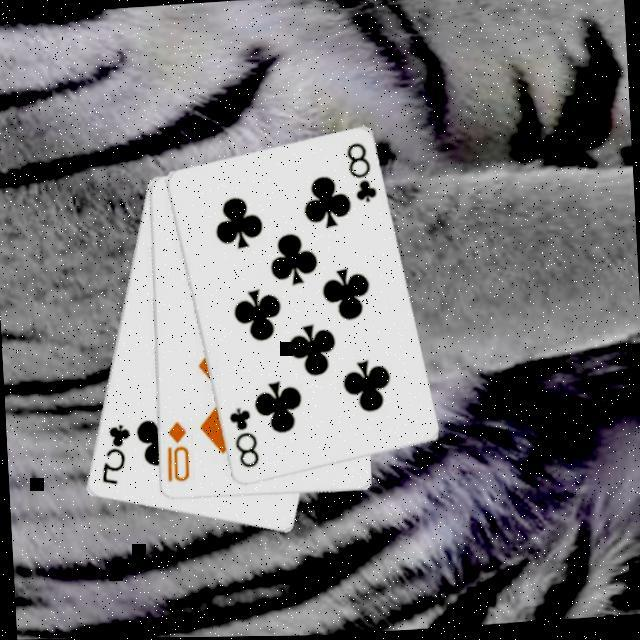10D: (159, 419, 191, 486)
5C: (93, 420, 134, 488)
8C: (223, 403, 260, 472), (341, 139, 378, 208)
